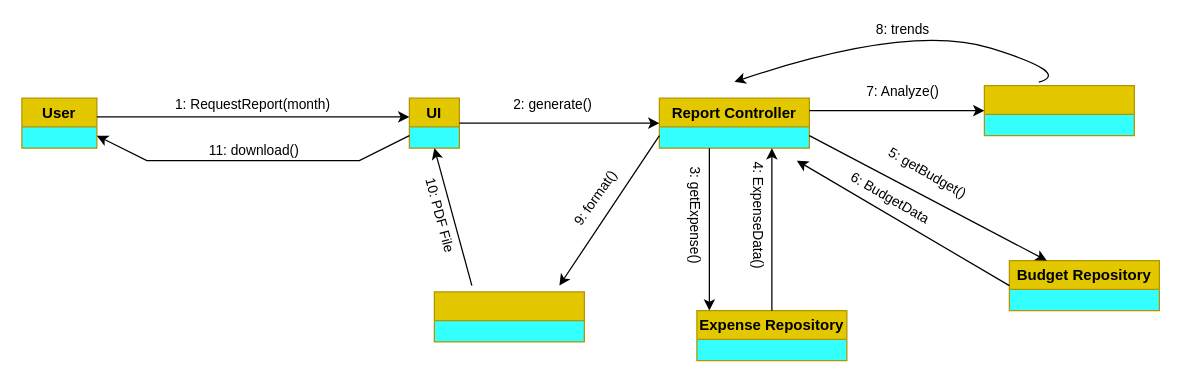
Some shapes in this 1181 by 383 pixel diagram are drawn without their labels. The box of each missing label's shape, as (x1, y1, x2, y2) in pixels:
Analytics Engine: (983, 84, 1134, 136)
PDF Generator: (433, 291, 584, 342)
